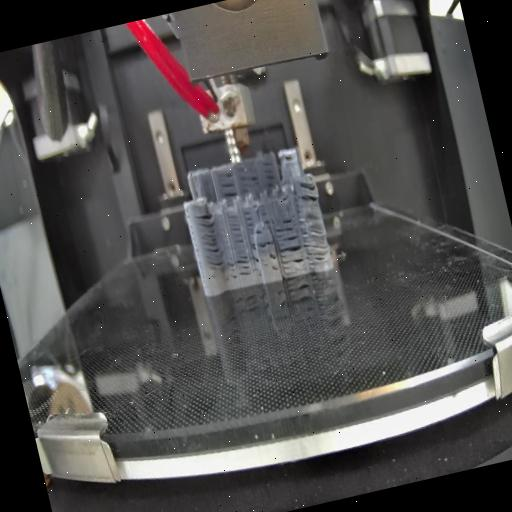cracks: (296, 211, 332, 269), (193, 210, 225, 272), (276, 236, 306, 272), (223, 252, 252, 284), (216, 170, 239, 202), (226, 213, 246, 248), (294, 181, 320, 207), (236, 169, 260, 194), (260, 160, 280, 190), (272, 216, 294, 238), (247, 241, 261, 269), (258, 206, 272, 226), (242, 209, 255, 230), (256, 238, 275, 252), (267, 254, 279, 274), (284, 153, 294, 163), (252, 228, 264, 236)
